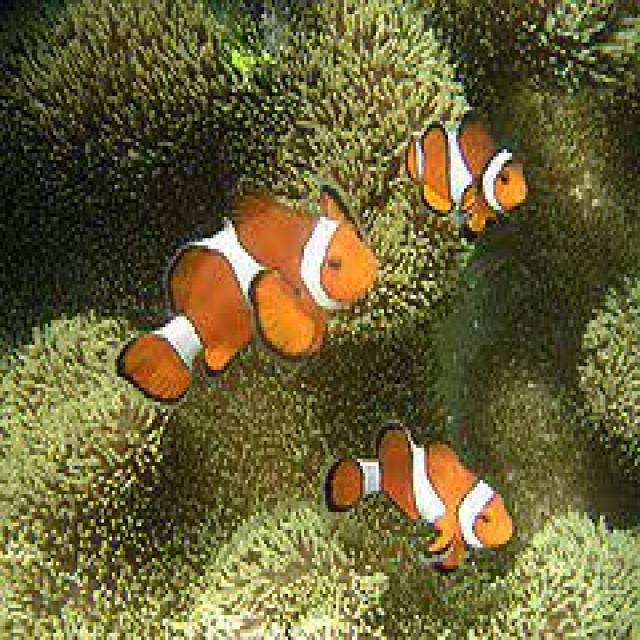ClownFish: (114, 183, 379, 430), (325, 424, 516, 569), (408, 102, 528, 234)
